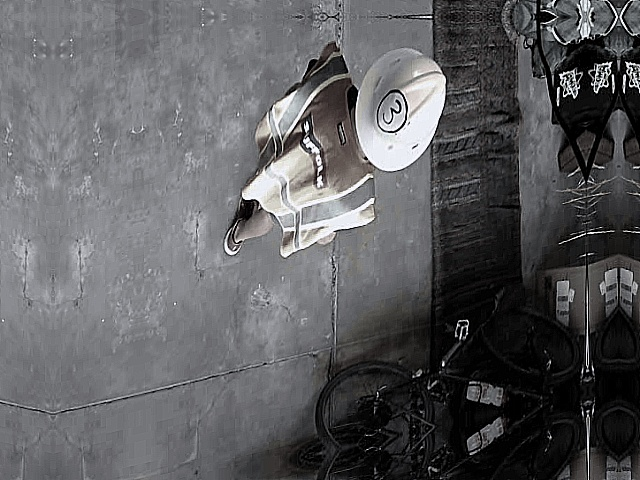three: (375, 86, 408, 138)
